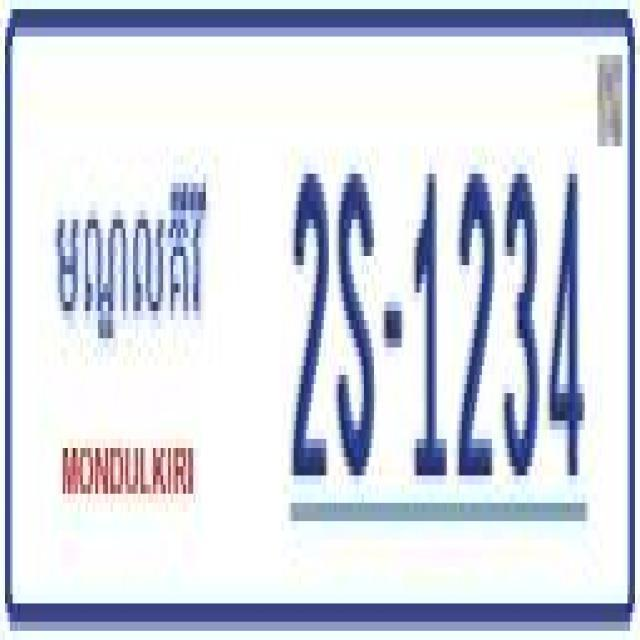Mondul_Kiri: (53, 165, 211, 359)
